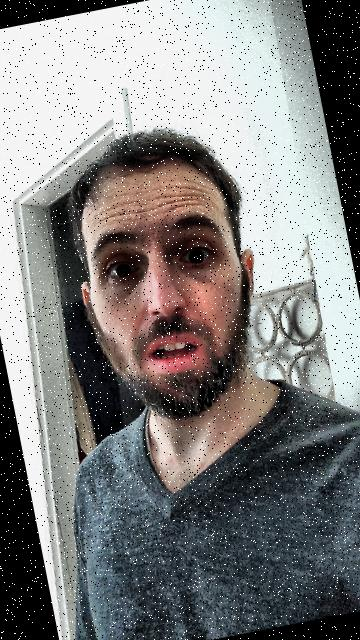surprised: (45, 105, 289, 442)
